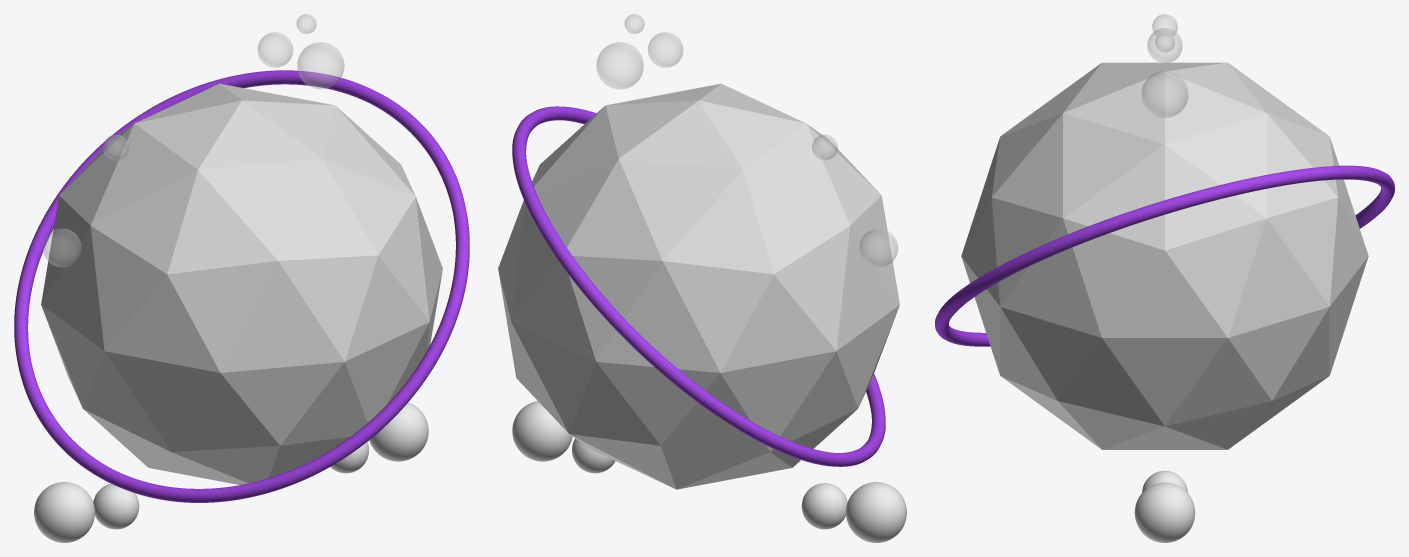
The model's file is lumiaabstract.glb.
3 renders of one model, left to right at view 1: azimuth 30°, elevation 25°; view 2: azimuth 150°, elevation 25°; view 3: azimuth 270°, elevation 25°, orthographic.
Parts seen in each view (by area): view 1: Icosphere, BezierCircle, Sphere.003, Sphere, Sphere.006, Sphere.002, Sphere.007, Sphere.005, Sphere.001; view 2: Icosphere, BezierCircle, Sphere.003, Sphere, Sphere.006, Sphere.002, Sphere.007, Sphere.005, Sphere.001, Sphere.004; view 3: Icosphere, BezierCircle, Sphere, Sphere.006, Sphere.005.
Part boxes in pixels (x1,y1,x2,y2): Icosphere: [41, 83, 442, 484]; BezierCircle: [14, 70, 469, 502]; Sphere.003: [34, 482, 94, 542]; Sphere: [369, 402, 428, 461]; Sphere.006: [297, 42, 344, 88]; Sphere.002: [93, 483, 139, 529]; Sphere.007: [43, 228, 81, 266]; Sphere.005: [258, 32, 292, 67]; Sphere.001: [330, 442, 368, 473]; Icosphere: [498, 83, 899, 489]; BezierCircle: [512, 106, 885, 466]; Sphere.003: [846, 482, 906, 542]; Sphere: [512, 401, 572, 461]; Sphere.006: [596, 42, 643, 88]; Sphere.002: [801, 483, 847, 529]; Sphere.007: [859, 228, 897, 266]; Sphere.005: [648, 32, 682, 67]; Sphere.001: [572, 438, 615, 473]; Sphere.004: [812, 135, 837, 160]; Icosphere: [961, 62, 1368, 449]; BezierCircle: [935, 165, 1394, 346]; Sphere: [1134, 482, 1195, 542]; Sphere.006: [1142, 71, 1187, 117]; Sphere.005: [1147, 28, 1182, 62].
Bounding box in the file's own units: 2.17 × 2.5 × 2.26.
